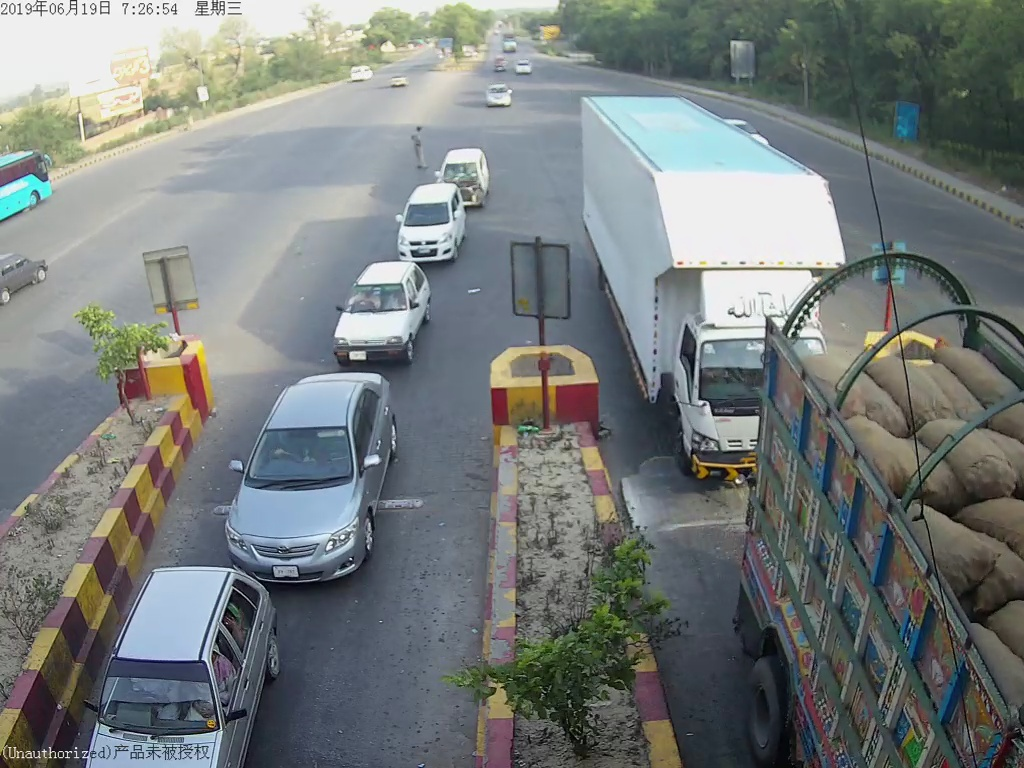Cat-1: (224, 376, 396, 581), (331, 255, 427, 366), (395, 184, 462, 262)
Cat-4: (585, 94, 838, 483)
